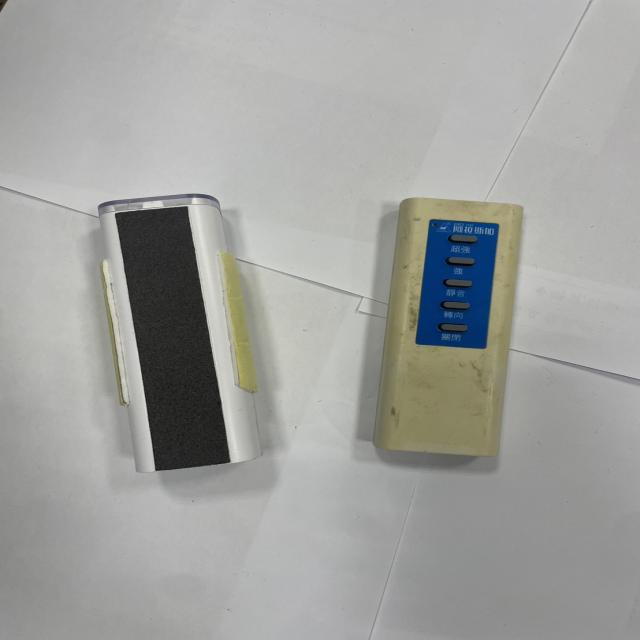remote: (90, 198, 268, 473), (392, 196, 518, 464)
